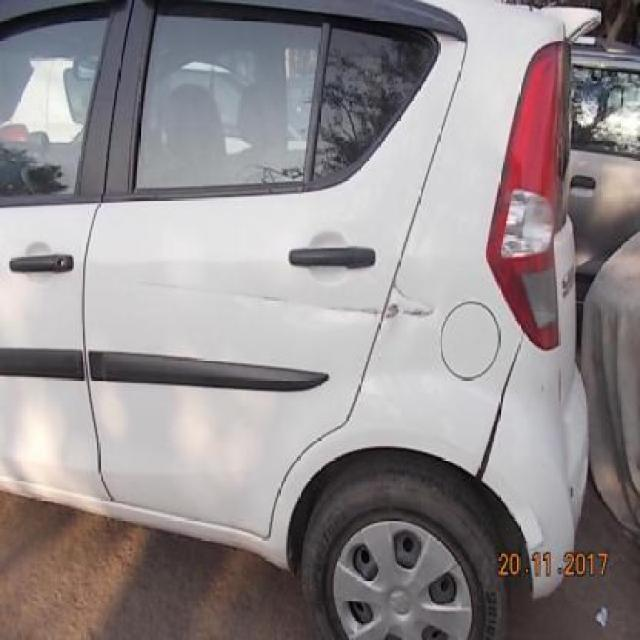doorouter-dent: (145, 271, 441, 339)
